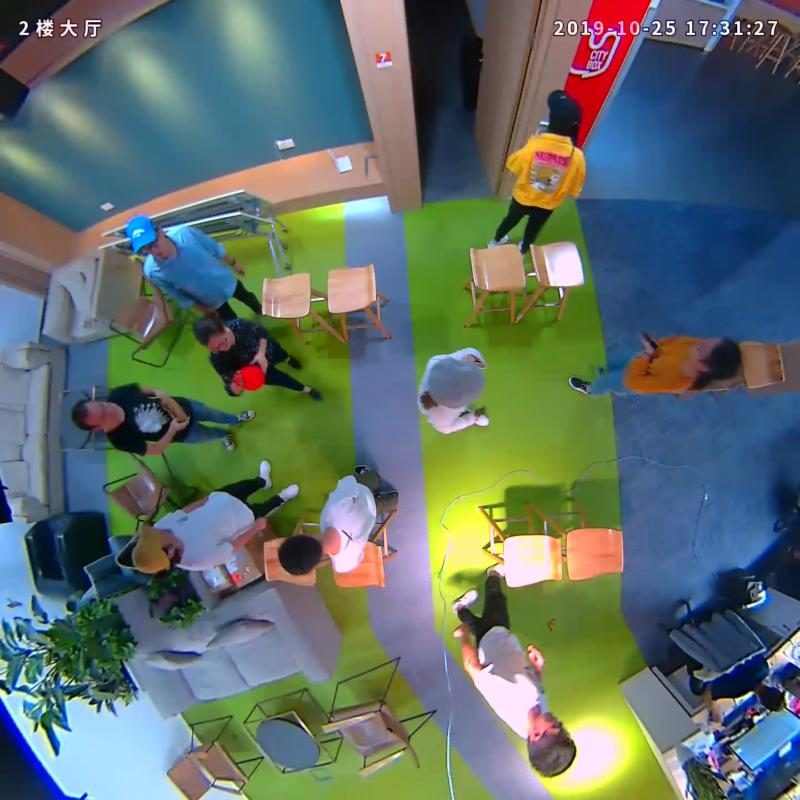head: (525, 711, 577, 778), (428, 356, 486, 409), (682, 336, 741, 381), (130, 522, 176, 574), (124, 215, 169, 260), (278, 534, 324, 575), (72, 398, 121, 432), (191, 315, 233, 353), (547, 87, 582, 131)
